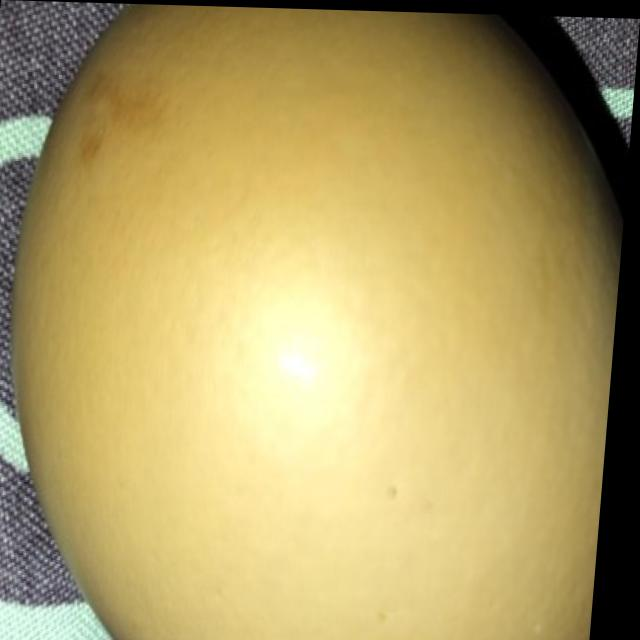fresh: (7, 1, 640, 640)
